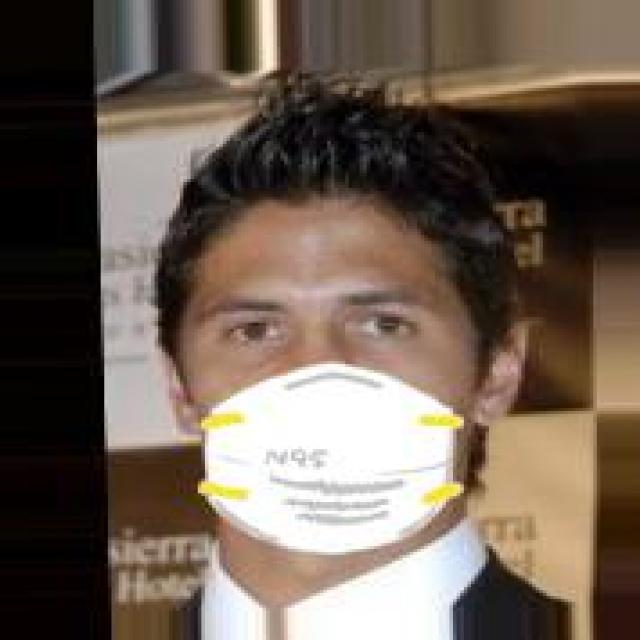mask: (137, 112, 561, 560)
